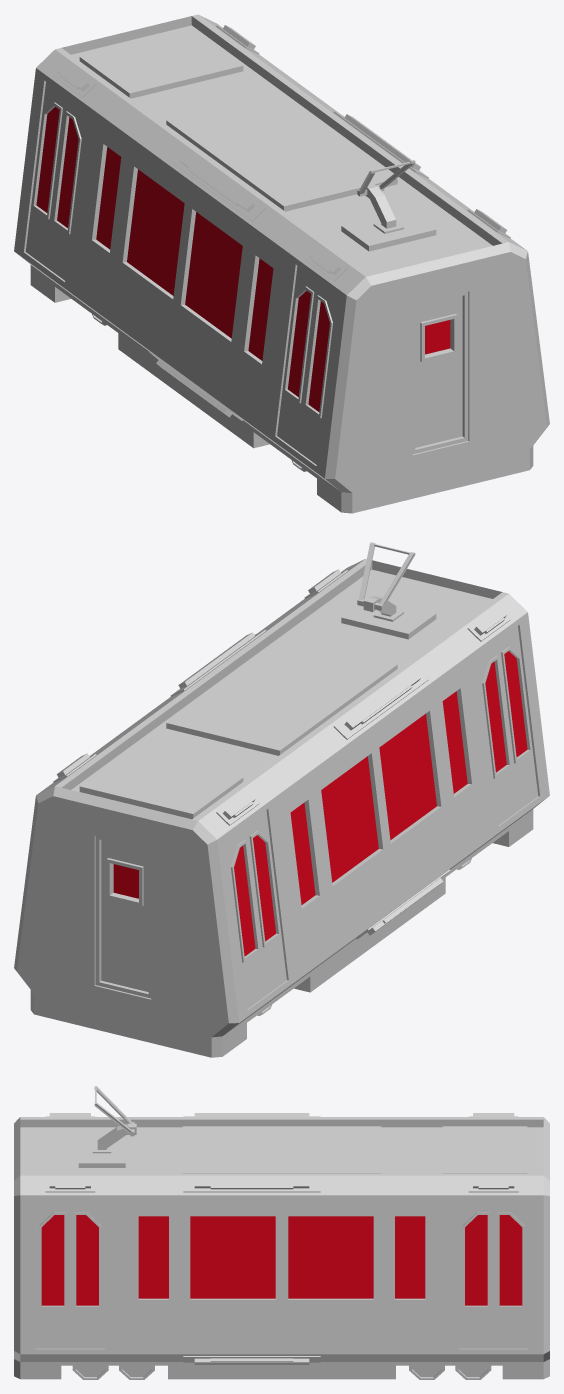
Rendered from SM_suburban_electric_train_02.glb.
The picture shows the model from 3 angles, top to bottom: view 1: azimuth 30°, elevation 25°; view 2: azimuth 150°, elevation 25°; view 3: azimuth 270°, elevation 25°; orthographic projection. The views are drawn at different scales.
Parts seen in each view (by area): view 1: suburban_electric_train_02; view 2: suburban_electric_train_02; view 3: suburban_electric_train_02.
Boxes of the visible parts, x1=… form: suburban_electric_train_02: x1=14, y1=14, x2=549, y2=513; suburban_electric_train_02: x1=14, y1=542, x2=549, y2=1057; suburban_electric_train_02: x1=14, y1=1086, x2=549, y2=1379.
Bounding box in the file's own units: 1.63 × 2.11 × 4.
